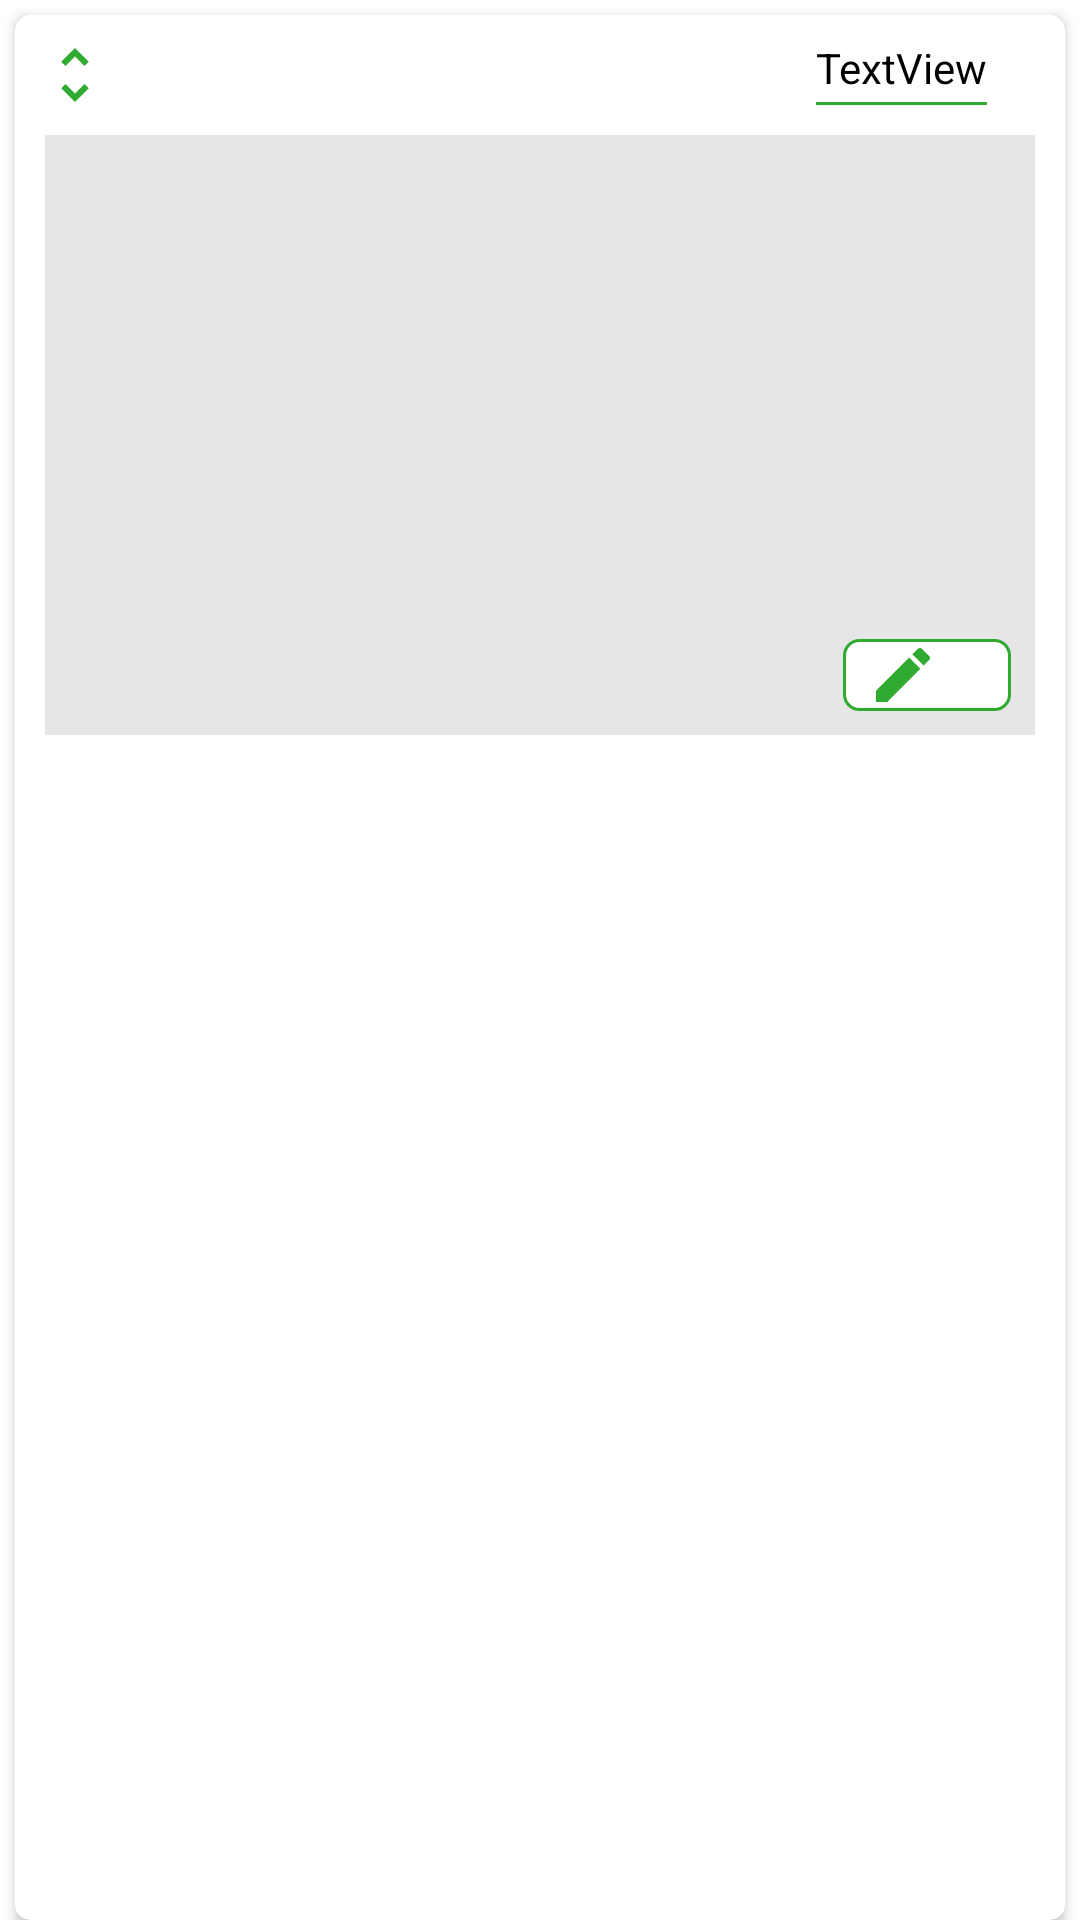

Locate icon controls on the screen. Image size 1080px×1920px, boxes as (x1, y1, x2, y2).
drag: (61, 48, 89, 102)
